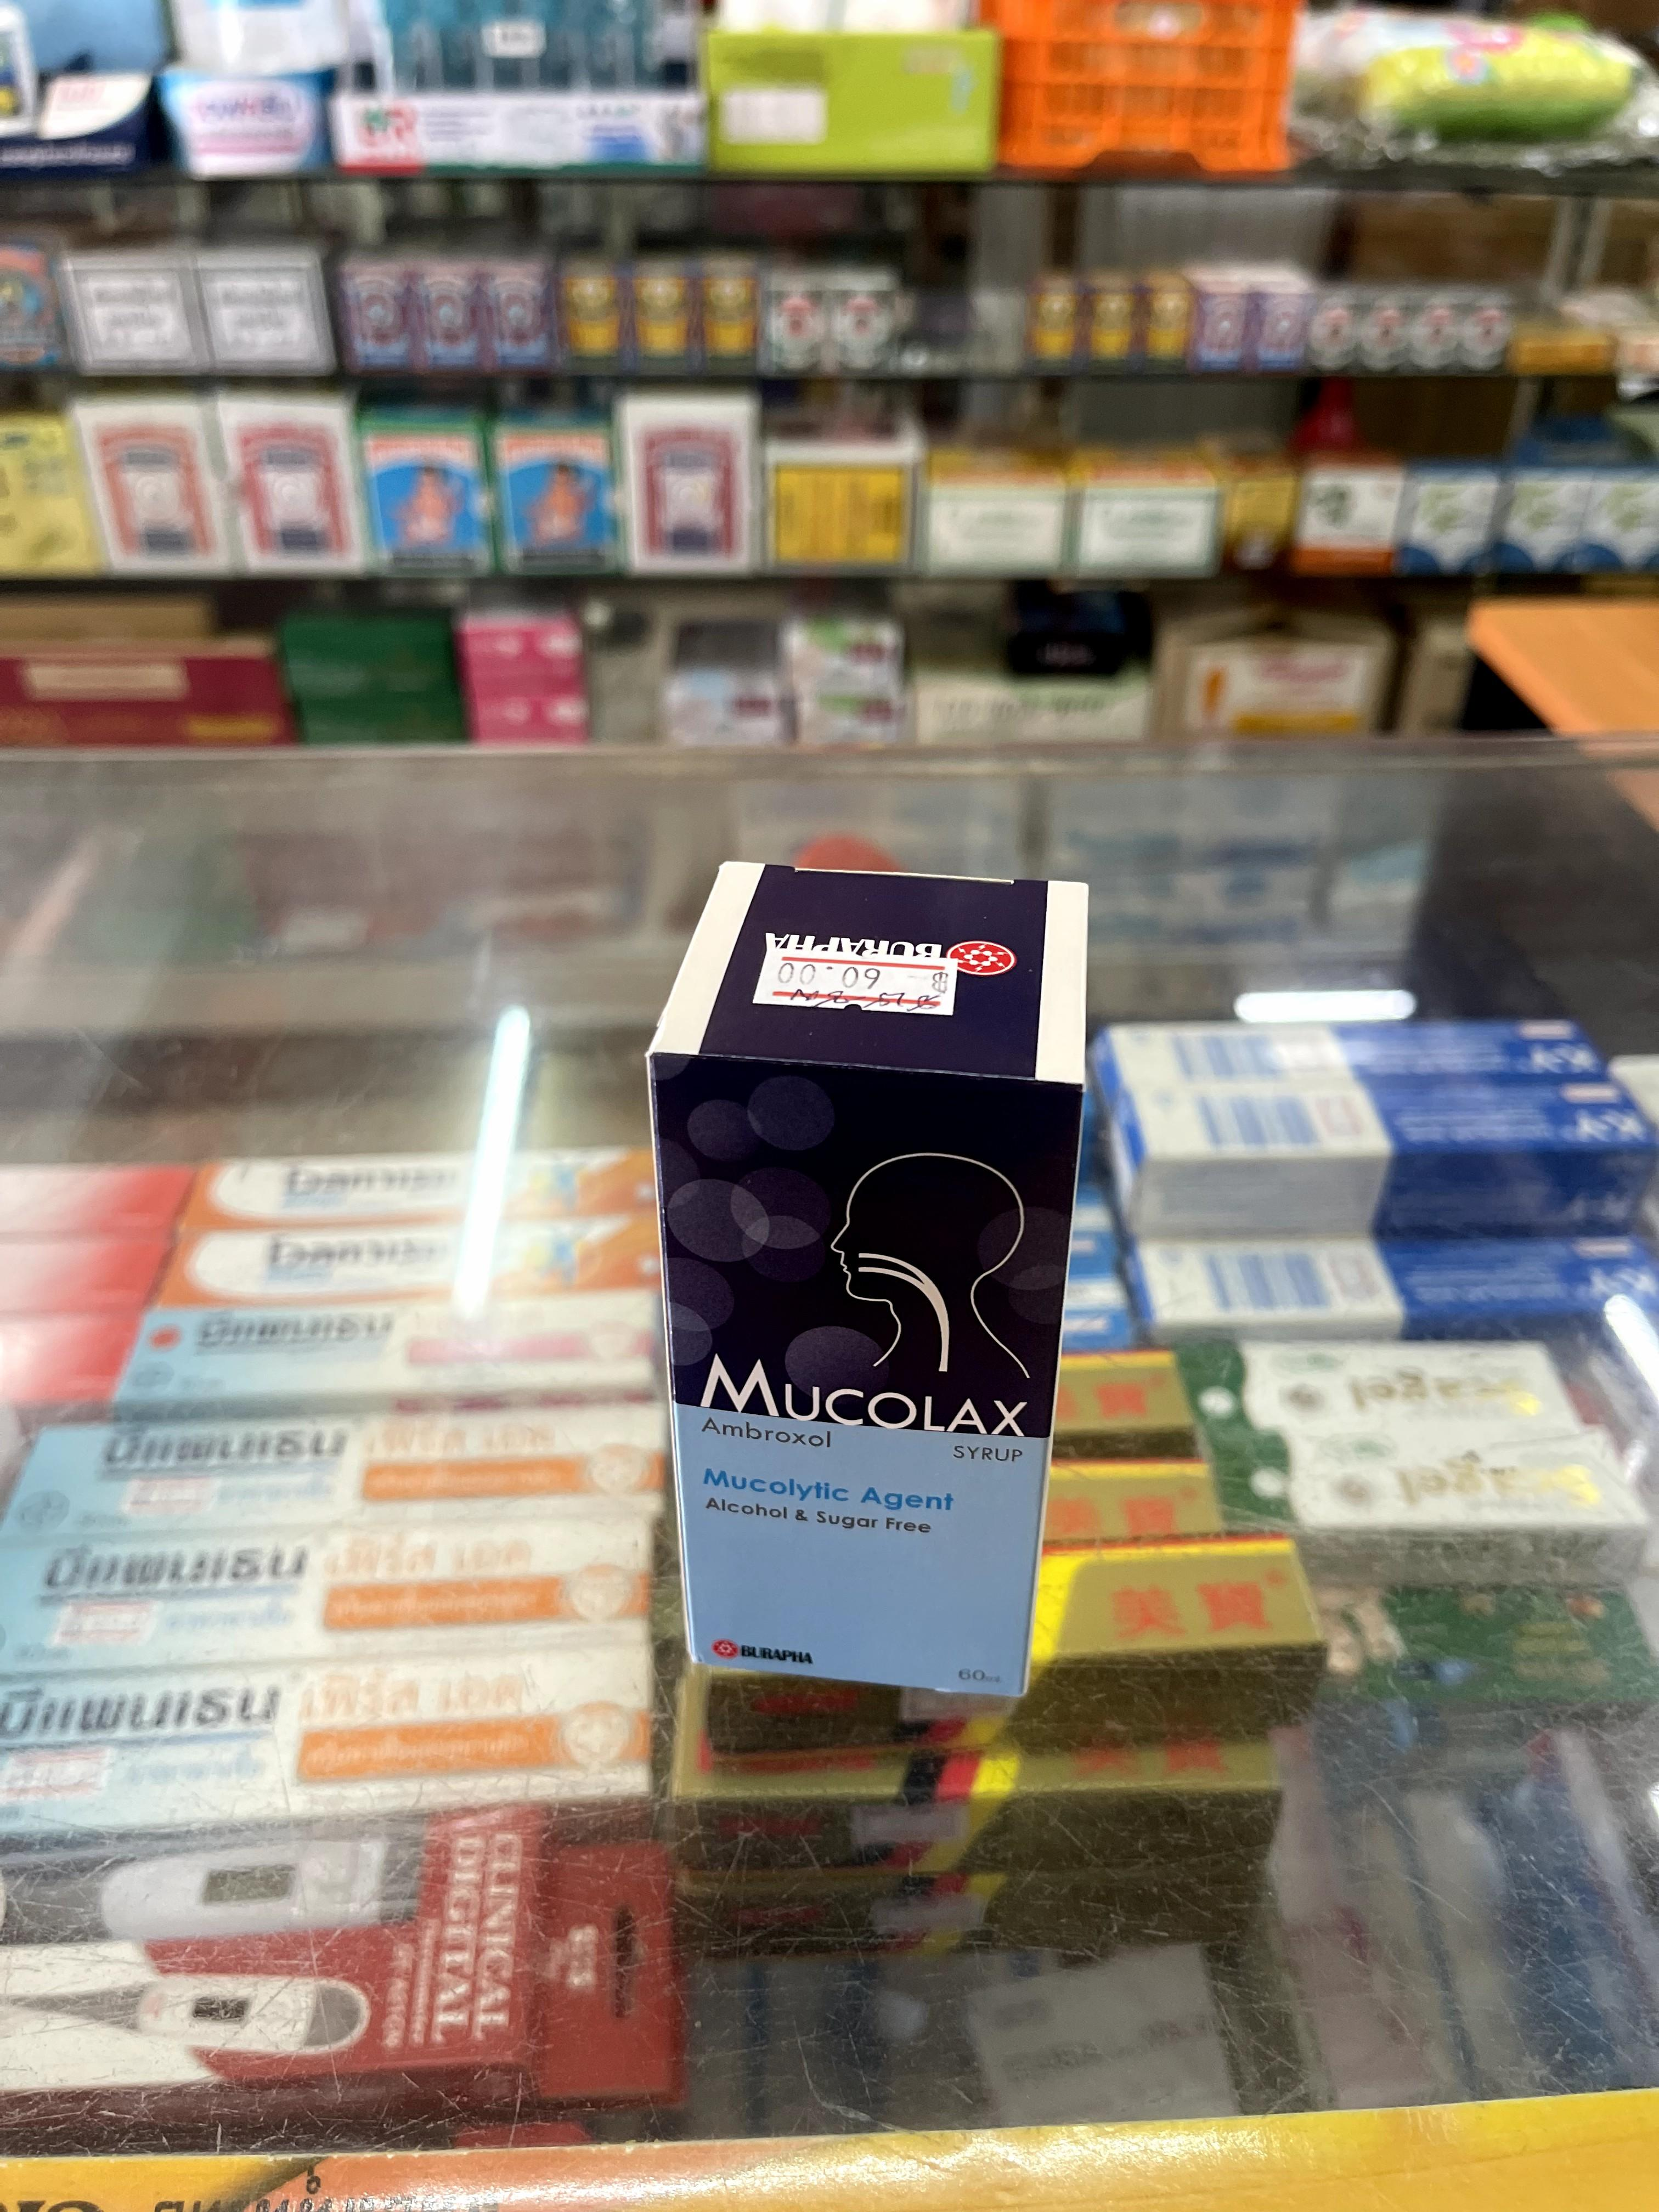Mucolax: (638, 852, 1096, 1703)
